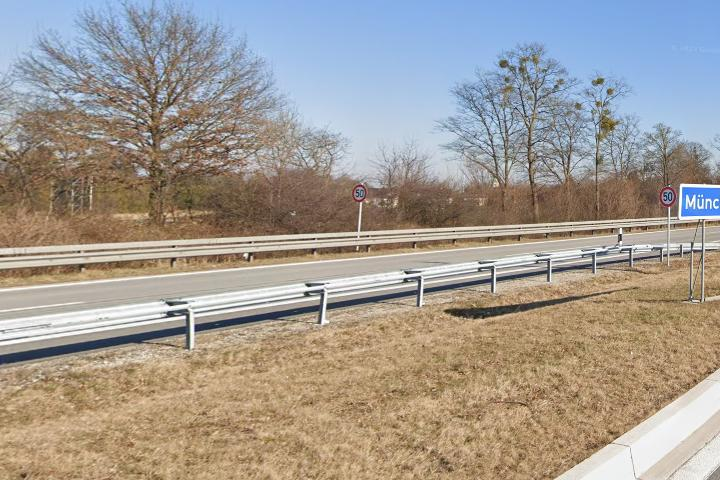traffic_sign: (660, 185, 676, 208), (352, 183, 367, 202)
